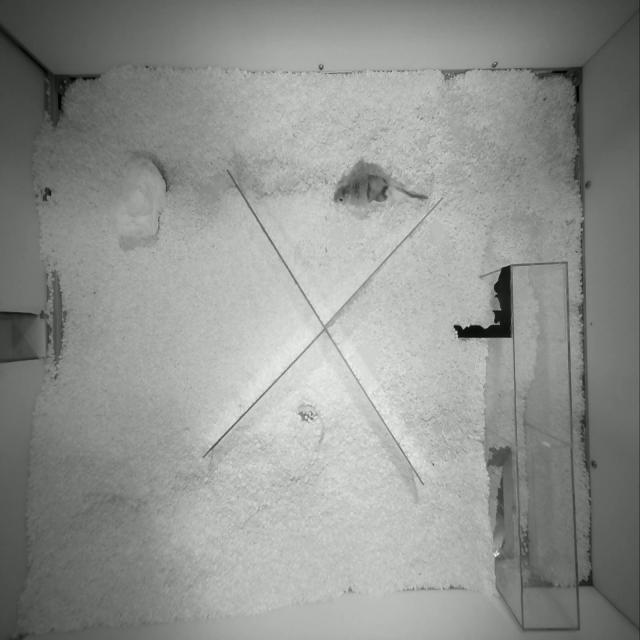adult_back: (334, 173, 426, 206)
